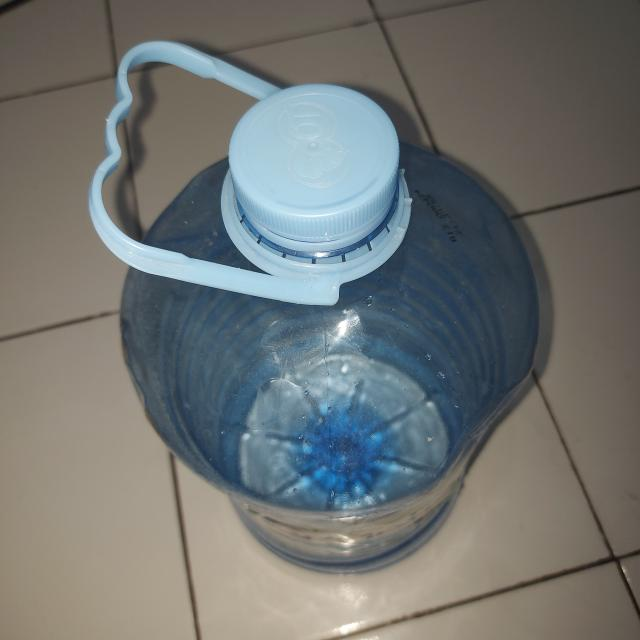Anorganik: (90, 41, 538, 576)
